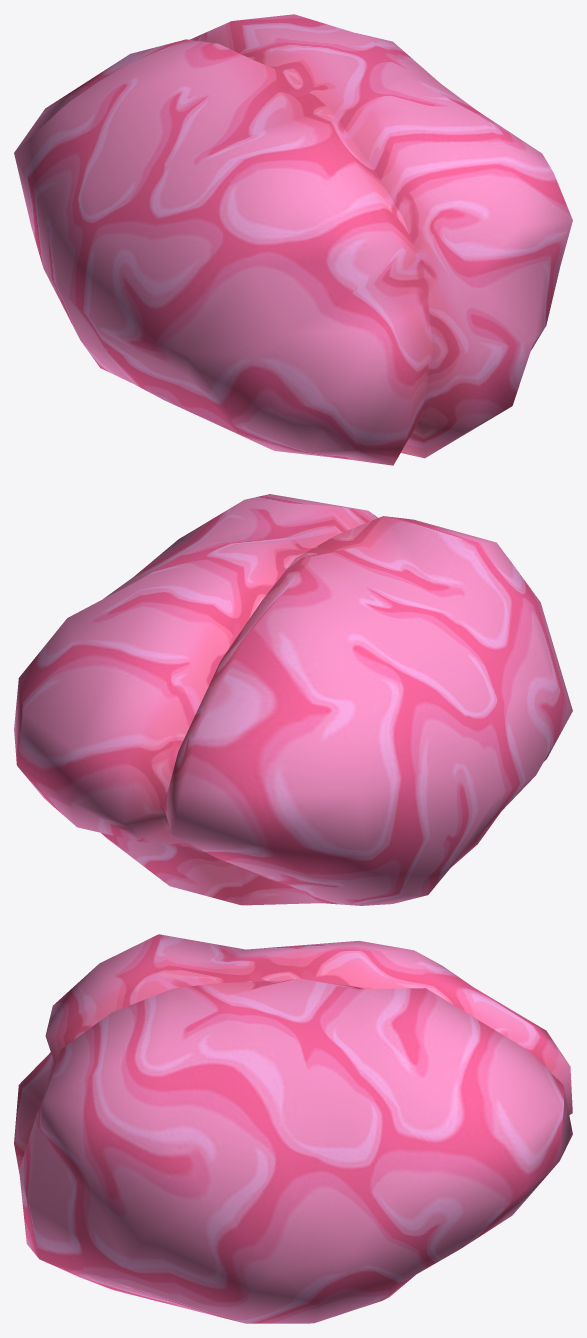
The model's file is Loot_Brain_Zombie_v01.fbx.
3 renders of one model, top to bottom at view 1: azimuth 30°, elevation 25°; view 2: azimuth 150°, elevation 25°; view 3: azimuth 270°, elevation 25°, orthographic. The views are drawn at different scales.
Parts seen in each view (by area): view 1: Loot_Brain; view 2: Loot_Brain; view 3: Loot_Brain.
Part boxes in pixels (x1,y1,x2,y2): Loot_Brain: (14, 14, 572, 465); Loot_Brain: (14, 494, 572, 905); Loot_Brain: (14, 934, 572, 1323).
Bounding box in the file's own units: 59.04 × 41.41 × 68.43.
